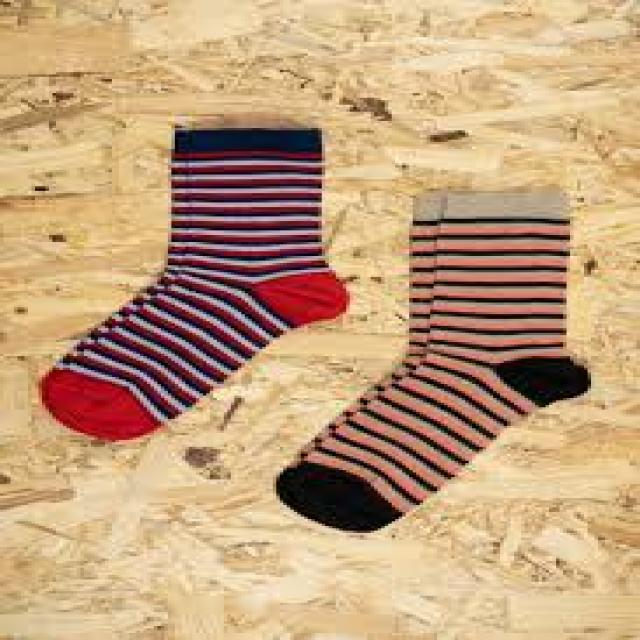Clothes -Biodegradable-: (270, 193, 584, 531), (47, 132, 351, 440)
